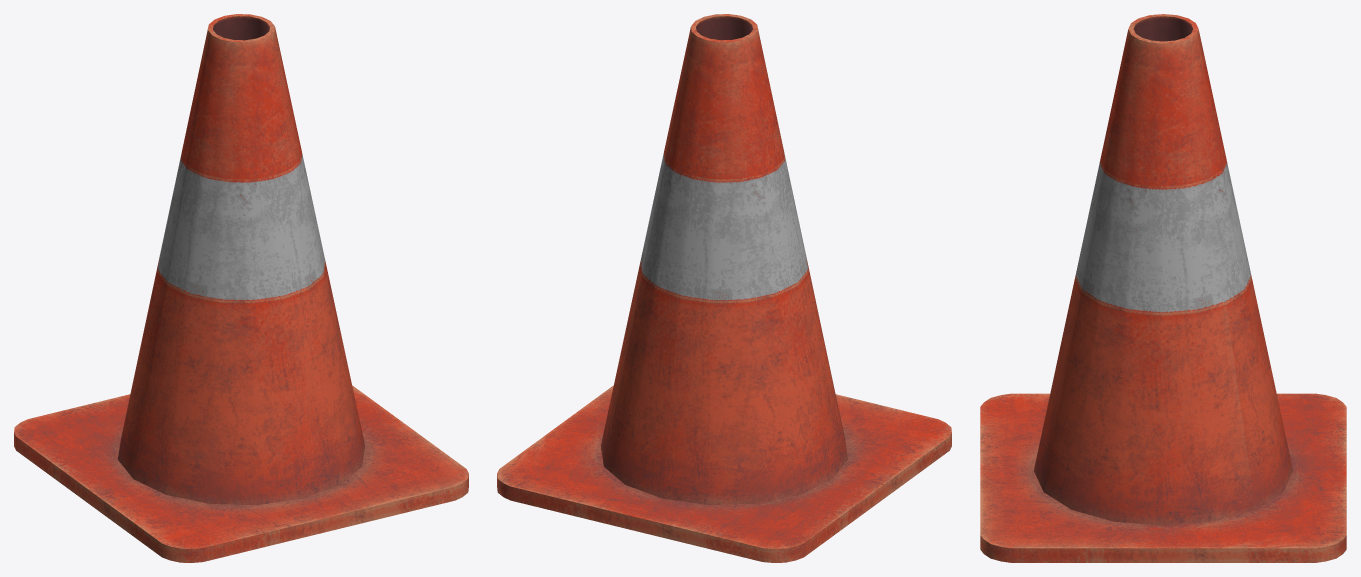
File: traffic cone.fbx
The picture shows the model from 3 angles, left to right: view 1: azimuth 30°, elevation 25°; view 2: azimuth 150°, elevation 25°; view 3: azimuth 270°, elevation 25°; orthographic projection. The views are drawn at different scales.
Visible parts, largest first — view 1: cone_low; view 2: cone_low; view 3: cone_low.
Part boxes in pixels (x1,y1,x2,y2): cone_low: [14, 14, 468, 562]; cone_low: [497, 14, 951, 562]; cone_low: [980, 14, 1346, 562].
Bounding box in the file's own units: 50.02 × 68.82 × 50.02.
1 material, 1 textured.
